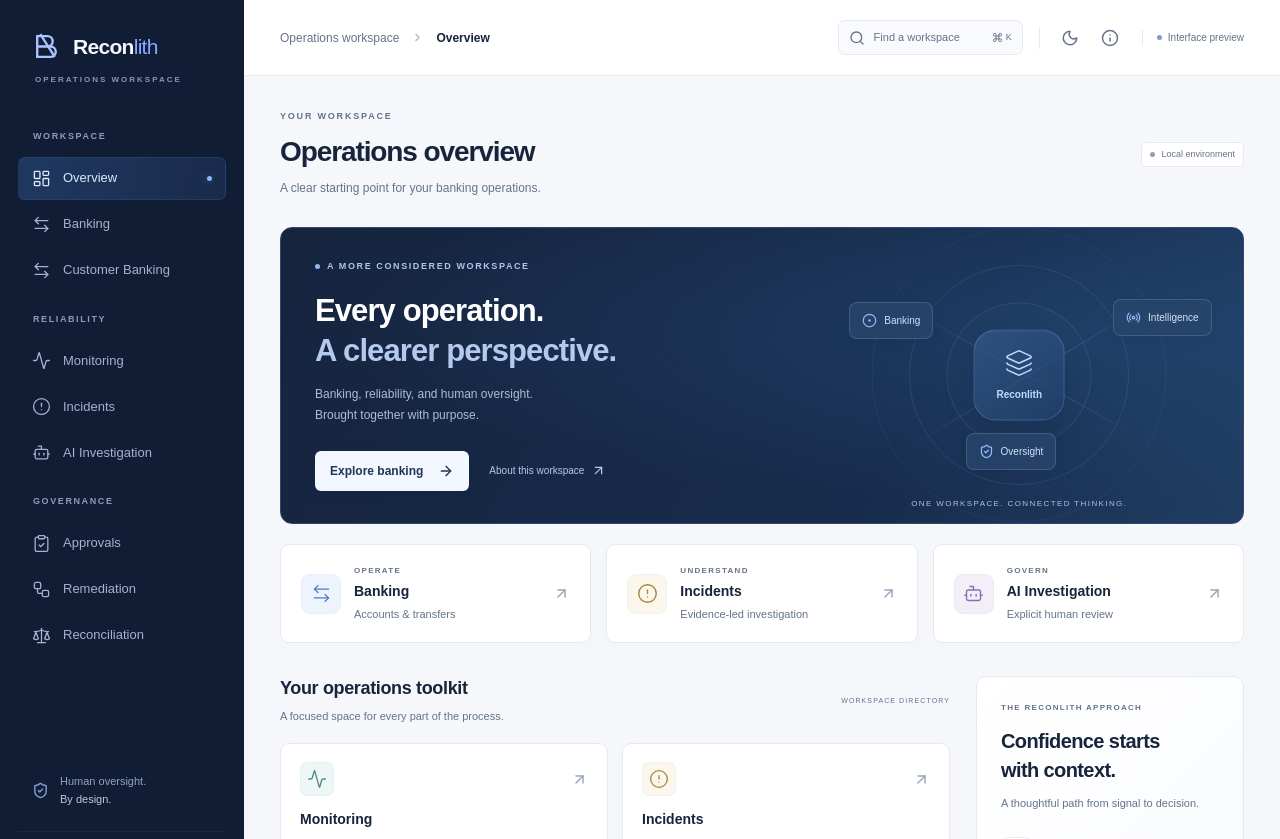
Test: Reconlith workspace › opens search with the keyboard, filters pages and navigates
The image size is (1280, 839).
Type keys "{Control>}k{/Control}"
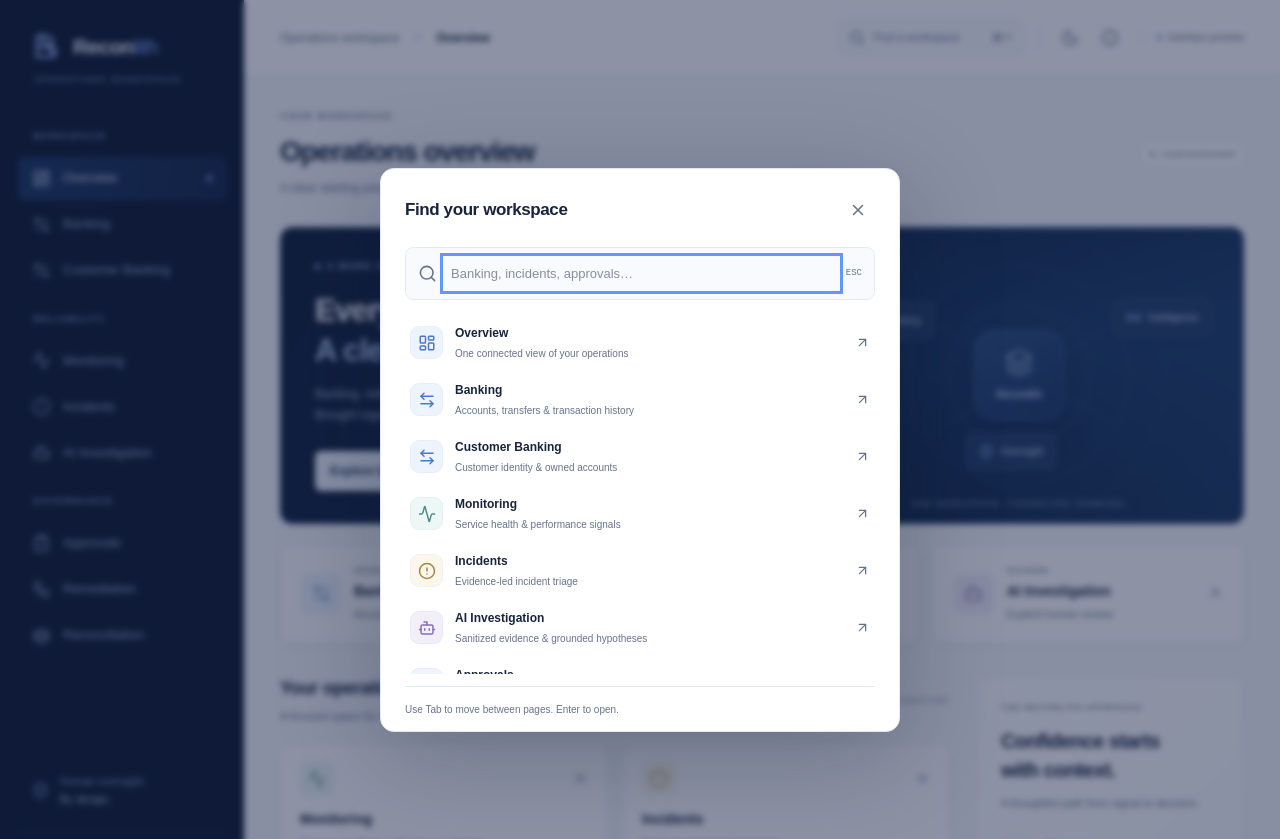
Type "recon" into the field named "Search pages" at [641, 274], box [447, 260, 836, 287]
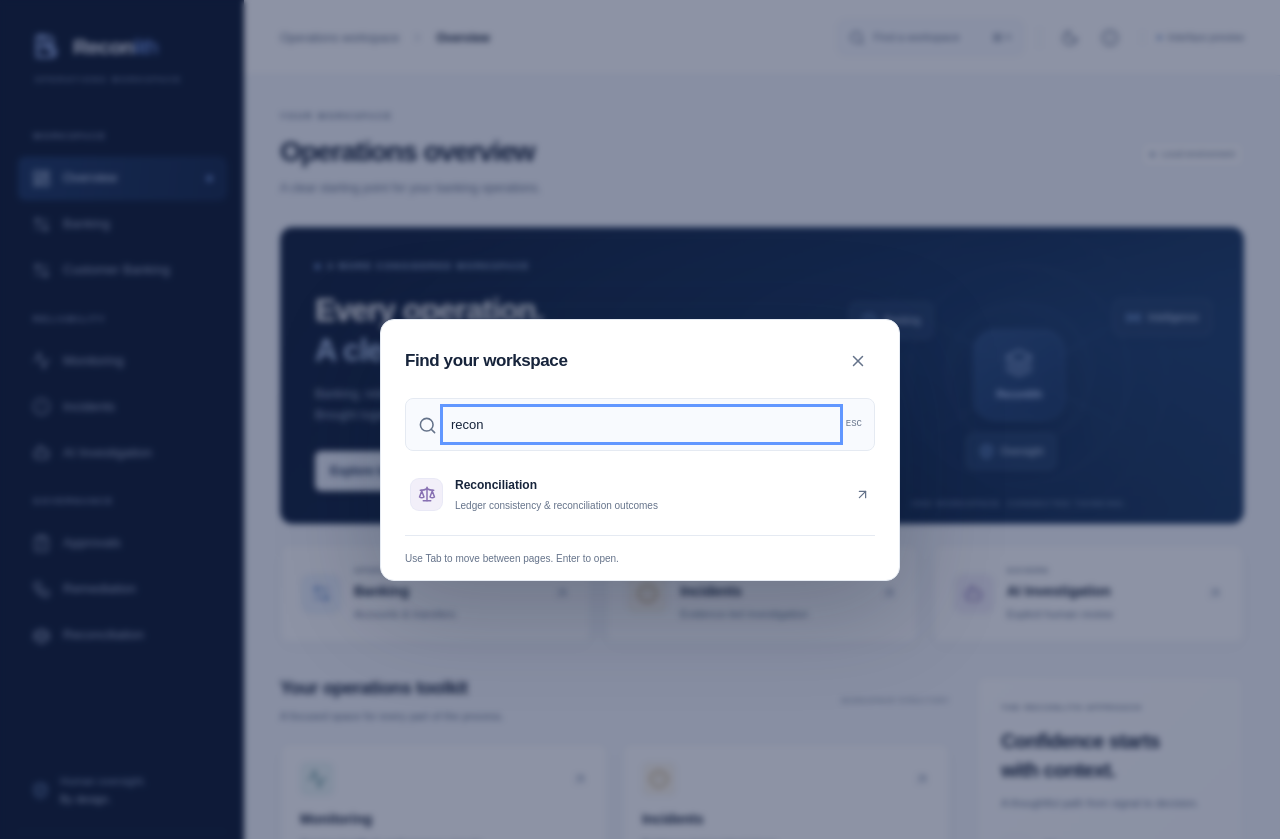
Click the link "Reconciliation Ledger consistency & reconciliation outcomes" at [426, 494], box [410, 478, 870, 511]
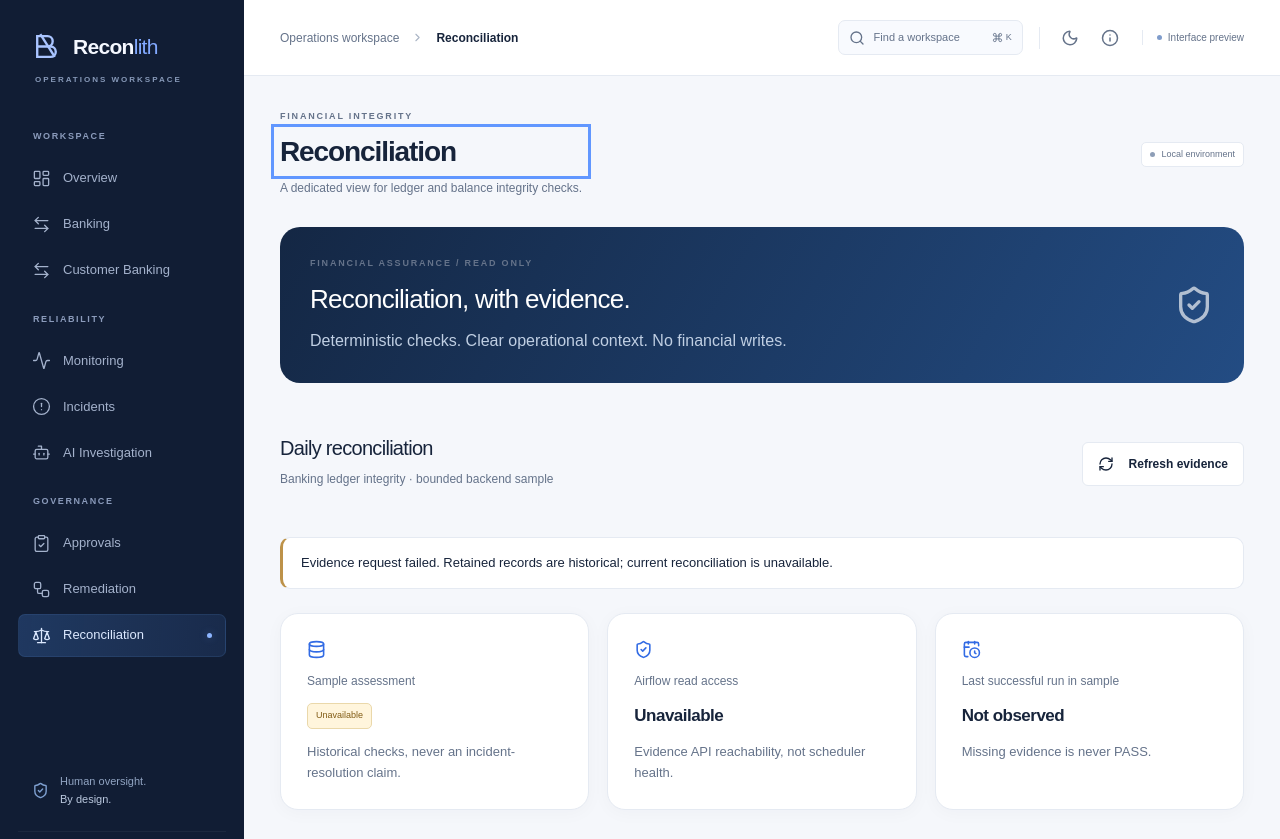
Now the heading "Find your workspace" is gone
Now the heading "Reconciliation" is shown, box [280, 136, 456, 166]
